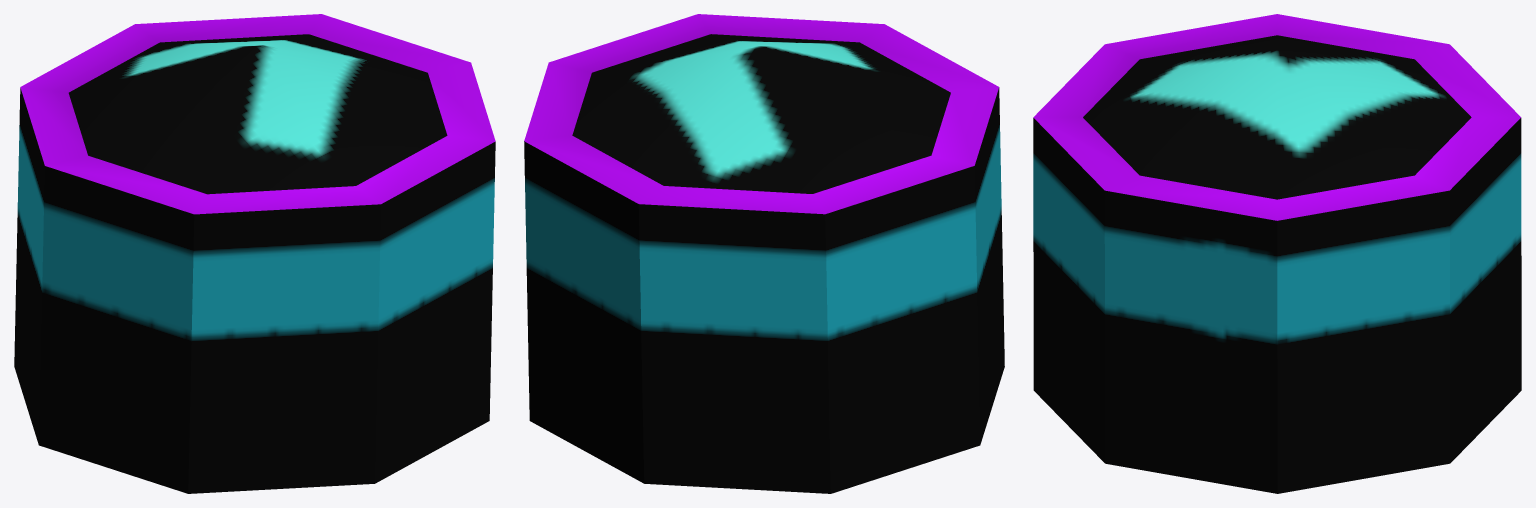
File: Button_Art.fbx
The picture shows the model from 3 angles, left to right: view 1: azimuth 30°, elevation 25°; view 2: azimuth 150°, elevation 25°; view 3: azimuth 270°, elevation 25°; orthographic projection.
Parts seen in each view (by area): view 1: Button; view 2: Button; view 3: Button.
Boxes of the visible parts, left/top/right/bottom form: Button: left=14, top=14, right=495, bottom=493; Button: left=524, top=14, right=1004, bottom=493; Button: left=1033, top=14, right=1521, bottom=493.
Bounding box in the file's own units: 0.3681 × 0.2817 × 0.3635.
